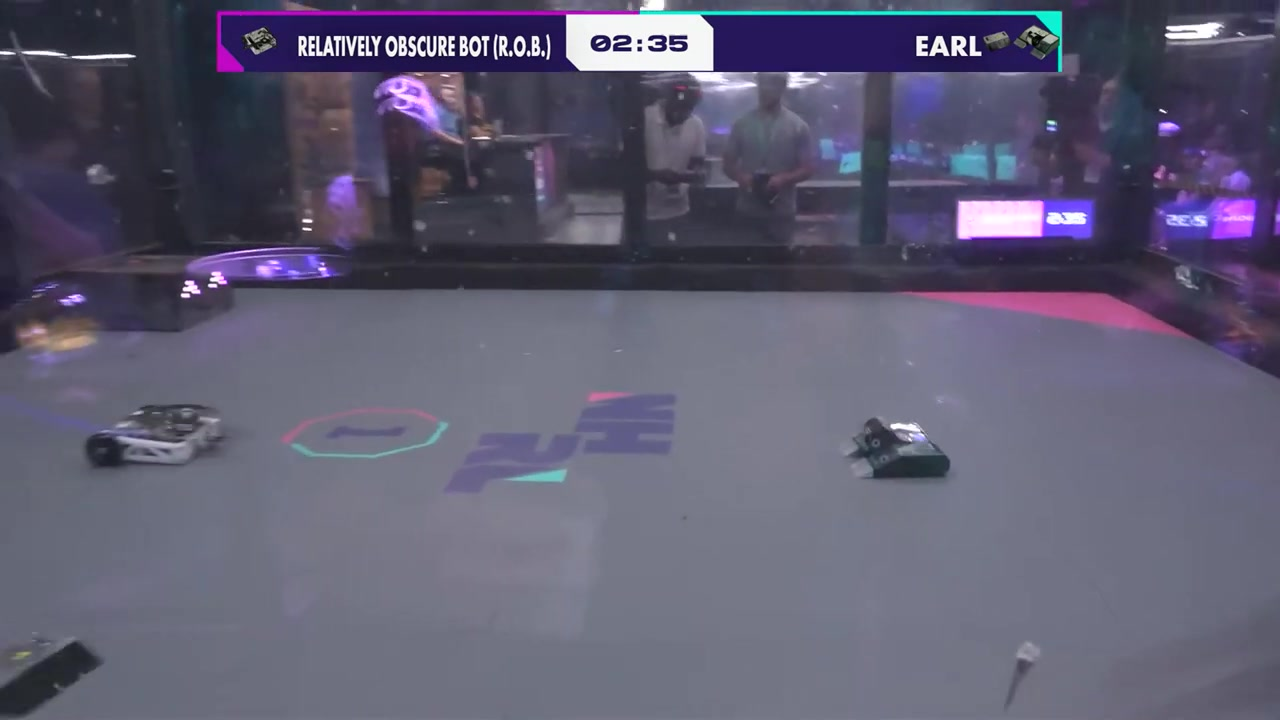combatbot: (85, 402, 229, 470), (842, 416, 952, 484)
housebot: (36, 253, 233, 333)
